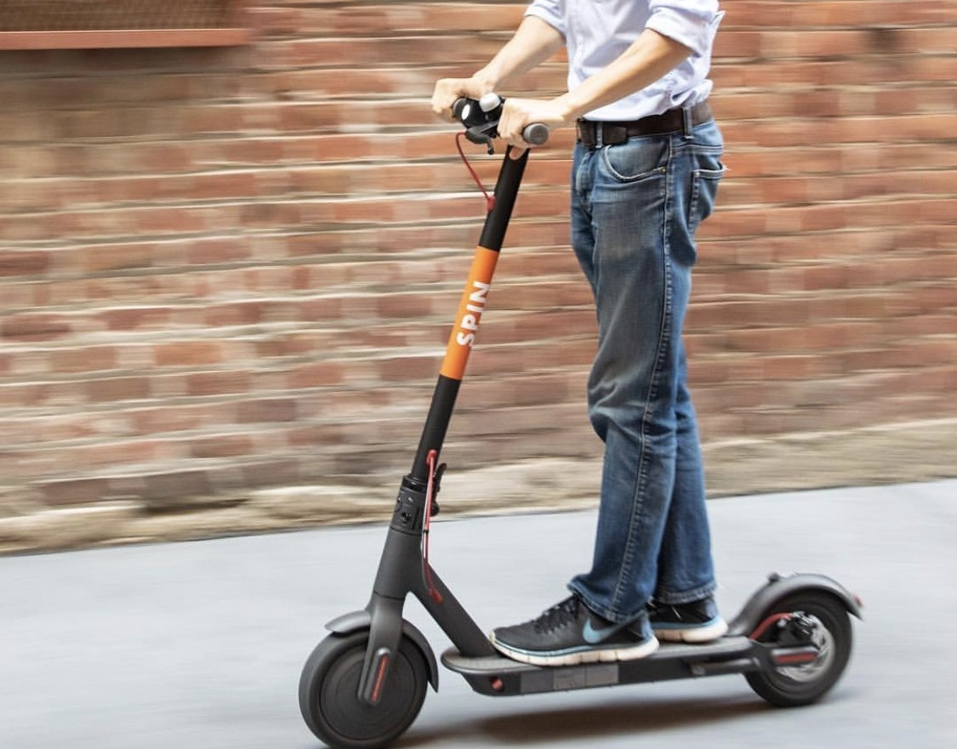scooter: (297, 88, 864, 749)
